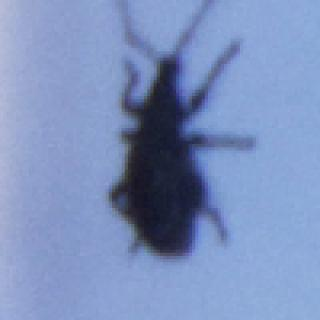bvw: (107, 2, 258, 260)
